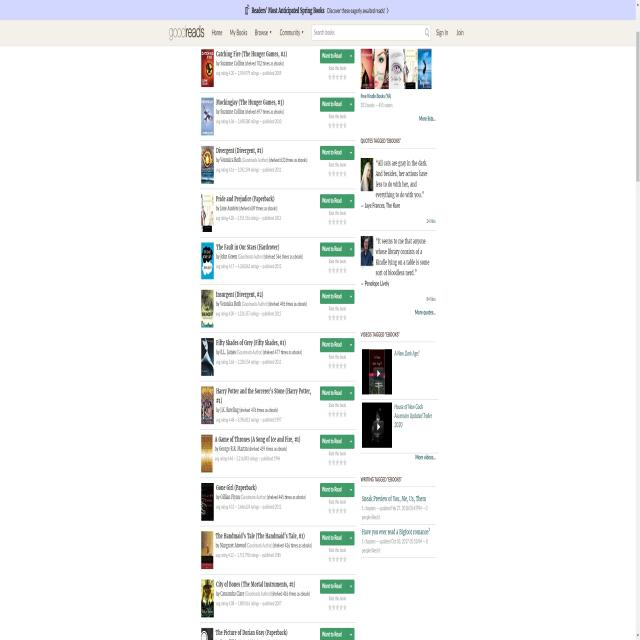menu-bar: (433, 28, 466, 38)
search: (311, 24, 431, 41)
side-panel: (357, 44, 447, 572), (360, 402, 435, 451)
tab-bar: (209, 22, 307, 42)
